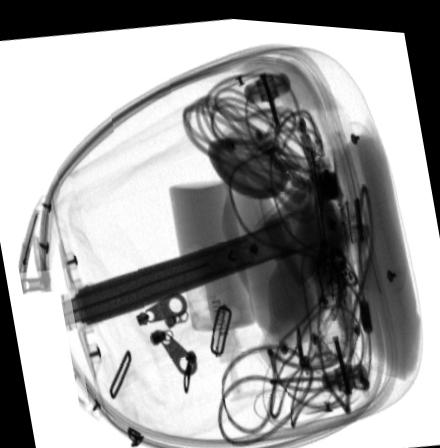Powerbank: (257, 149, 362, 289)
